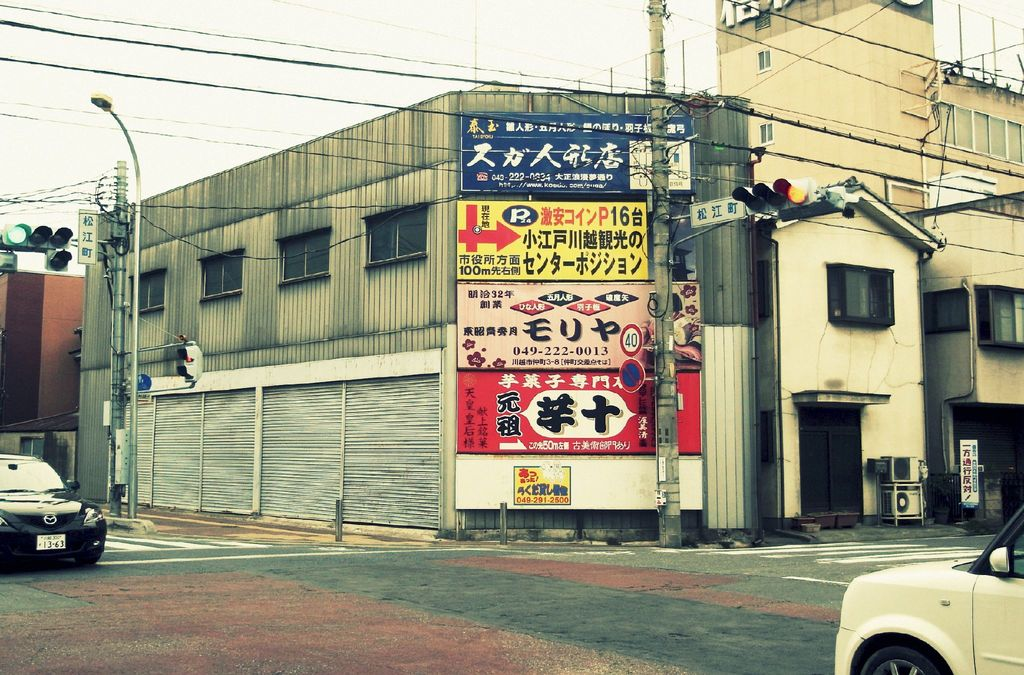Car: (834, 503, 1023, 674), (0, 454, 106, 565)
